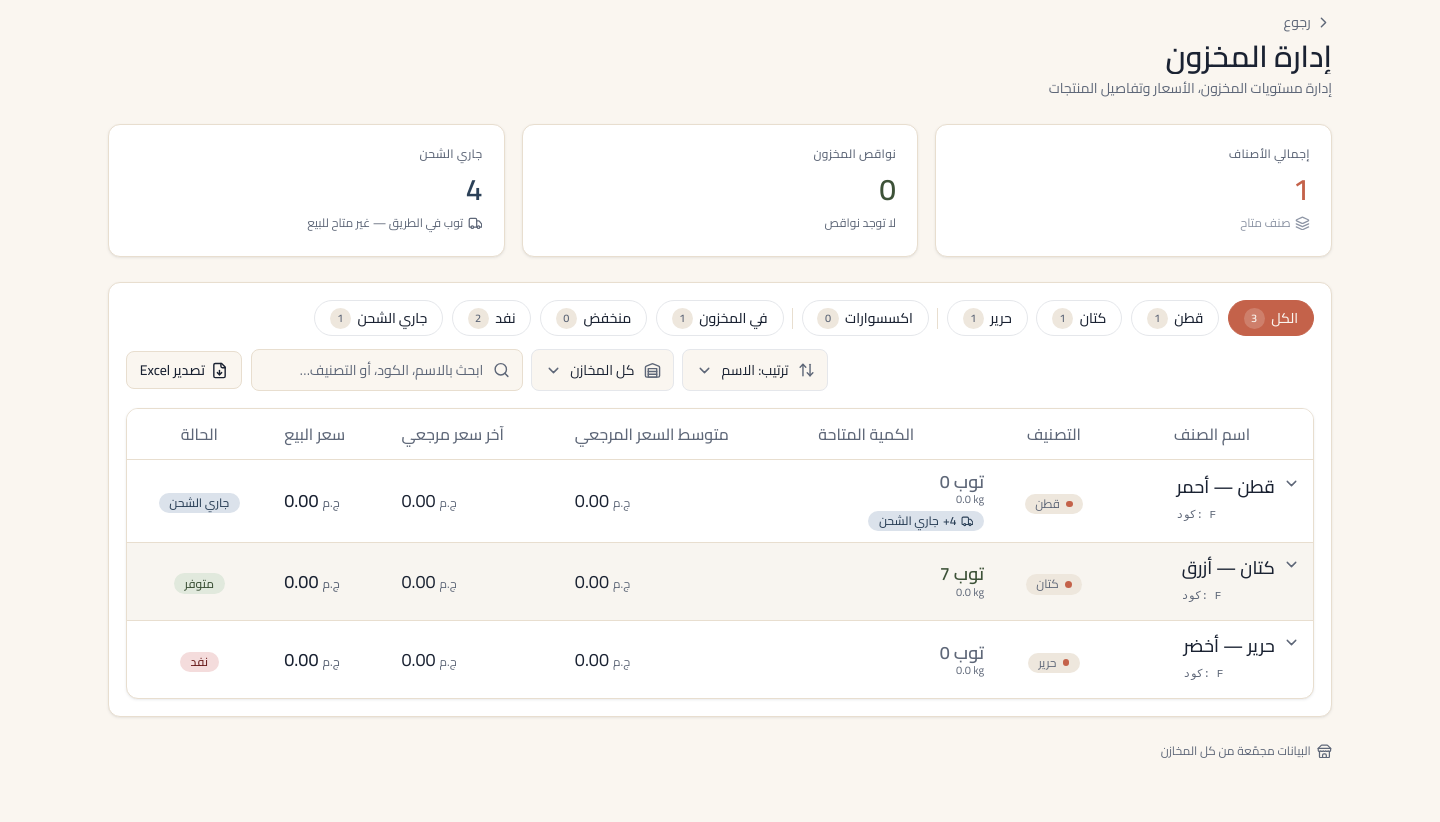
Scenario: Inventory page — «جاري الشحن» › the «جاري الشحن» filter shows only rows with أتواب on the way
Click the button "جاري الشحن 1" at (379, 318), box [314, 300, 443, 336]
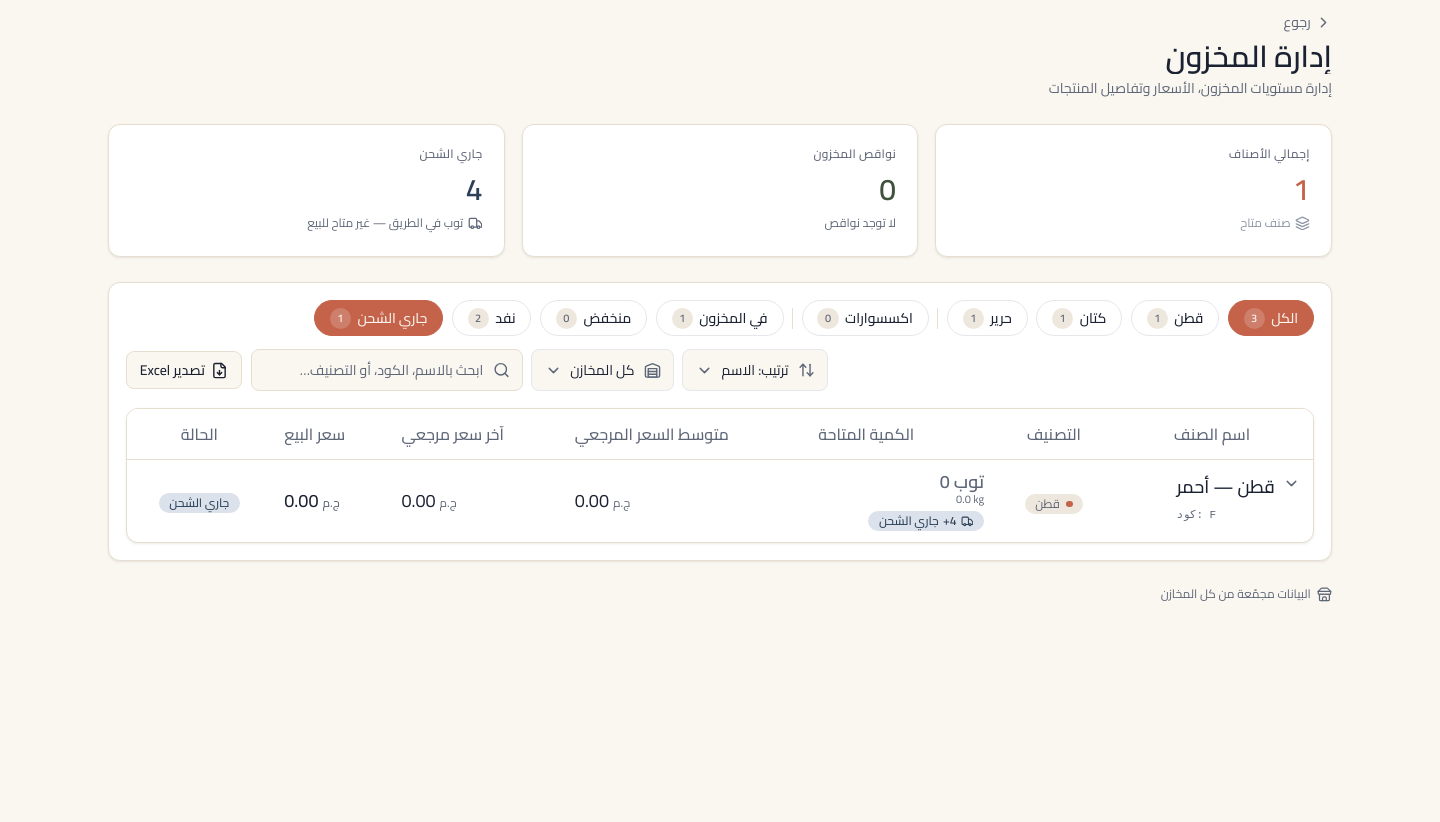
Expected: the text "قطن — أحمر" is shown, [127, 459, 1313, 542]
Expected: no buttons "كتان — أزرق" are shown
Expected: no buttons "حرير — أخضر" are shown
